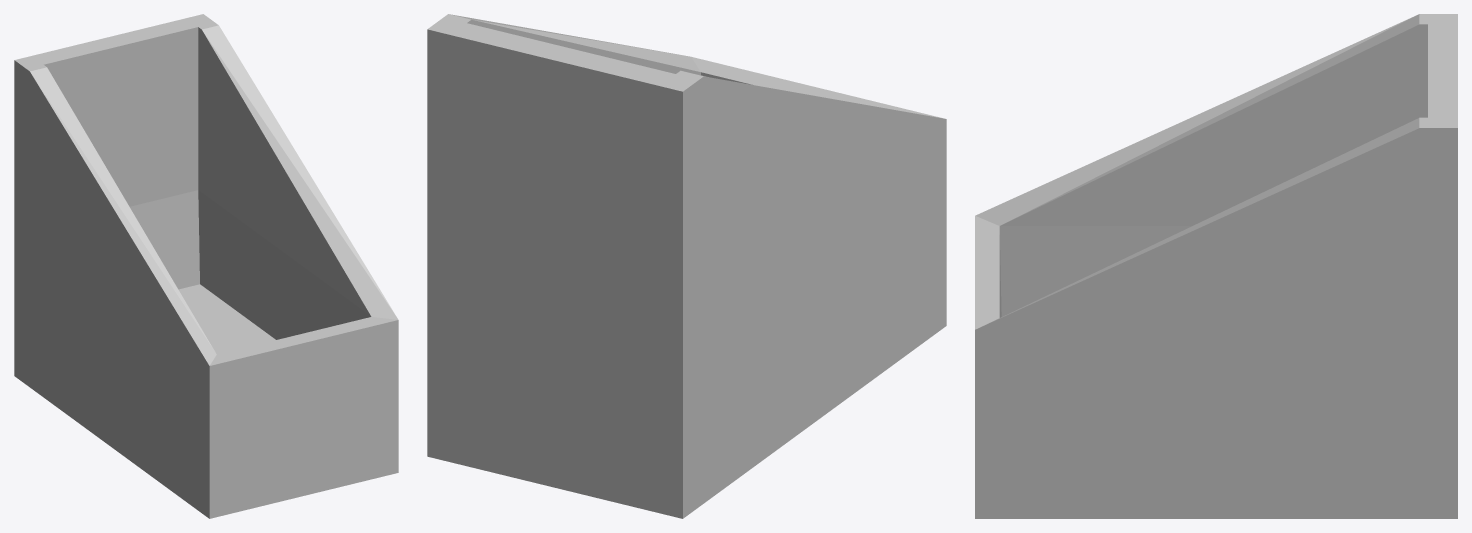
Rendered from Compartimento de Documentos.FBX.
The picture shows the model from 3 angles, left to right: view 1: azimuth 30°, elevation 25°; view 2: azimuth 150°, elevation 25°; view 3: azimuth 270°, elevation 25°; orthographic projection. The views are drawn at different scales.
Parts seen in each view (by area): view 1: Box029; view 2: Box029; view 3: Box029.
Boxes of the visible parts, left/top/right/bottom form: Box029: left=14, top=14, right=398, bottom=518; Box029: left=427, top=14, right=946, bottom=518; Box029: left=975, top=14, right=1457, bottom=518.
Size of the model in its own units: 110 by 176 by 197.
